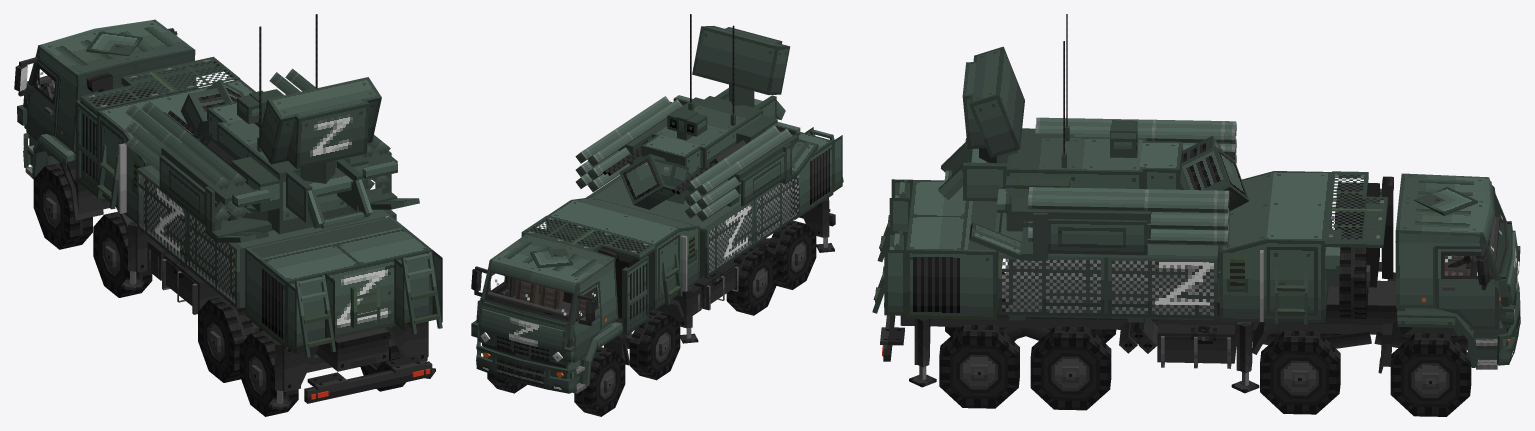
File: pa_pantsir.gltf
The picture shows the model from 3 angles, left to right: view 1: azimuth 30°, elevation 25°; view 2: azimuth 150°, elevation 25°; view 3: azimuth 270°, elevation 25°; orthographic projection. The views are drawn at different scales.
Parts seen in each view (by area): view 1: corpus (×33), BASNIA (×15), REB (×3), GUN (×8), MASHINGUN (×3), WHEEL8 (×3), WHEEL (×3), WHEEL6 (×2), DOOR, WHEEL3 (×2); view 2: corpus (×28), BASNIA (×7), GUN (×10), REB (×2), WHEEL3 (×3), WHEEL8 (×3), WHEEL6 (×3), WHEEL (×2), MASHINGUN, DOOR; view 3: corpus (×20), GUN (×8), BASNIA (×7), REB (×2), WHEEL5 (×7), WHEEL4 (×7), WHEEL7 (×7), WHEEL2 (×6), DOOR2, WHEE (×2), MASHINGUN.
Boxes of the visible parts, x1=… form: corpus (×33): x1=38, y1=19, x2=442, y2=403; BASNIA (×15): x1=181, y1=80, x2=419, y2=242; REB (×3): x1=257, y1=77, x2=381, y2=183; GUN (×8): x1=125, y1=68, x2=390, y2=225; MASHINGUN (×3): x1=231, y1=155, x2=397, y2=212; WHEEL8 (×3): x1=208, y1=296, x2=255, y2=370; WHEEL (×3): x1=44, y1=163, x2=92, y2=249; WHEEL6 (×2): x1=250, y1=330, x2=298, y2=400; DOOR: x1=27, y1=84, x2=57, y2=136; WHEEL3 (×2): x1=104, y1=211, x2=152, y2=282; corpus (×28): x1=476, y1=127, x2=842, y2=384; BASNIA (×7): x1=619, y1=96, x2=818, y2=209; GUN (×10): x1=575, y1=96, x2=798, y2=221; REB (×2): x1=692, y1=25, x2=790, y2=107; WHEEL3 (×3): x1=629, y1=309, x2=670, y2=369; WHEEL8 (×3): x1=726, y1=246, x2=767, y2=305; WHEEL6 (×3): x1=767, y1=220, x2=806, y2=279; WHEEL (×2): x1=574, y1=347, x2=615, y2=406; MASHINGUN: x1=679, y1=97, x2=777, y2=144; DOOR: x1=573, y1=306, x2=601, y2=346; corpus (×20): x1=884, y1=171, x2=1489, y2=373; GUN (×8): x1=1011, y1=117, x2=1236, y2=255; BASNIA (×7): x1=963, y1=120, x2=1249, y2=259; REB (×2): x1=962, y1=46, x2=1024, y2=157; WHEEL5 (×7): x1=1030, y1=326, x2=1111, y2=410; WHEEL4 (×7): x1=1260, y1=331, x2=1340, y2=414; WHEEL7 (×7): x1=939, y1=325, x2=1019, y2=408; WHEEL2 (×6): x1=1390, y1=333, x2=1471, y2=416; DOOR2: x1=1435, y1=277, x2=1498, y2=308; WHEE (×2): x1=1339, y1=247, x2=1366, y2=307; MASHINGUN: x1=1005, y1=133, x2=1074, y2=213.
Size of the model in its own units: 3.74 by 6.63 by 11.16.
Materials: 1 (1 with a texture image).
